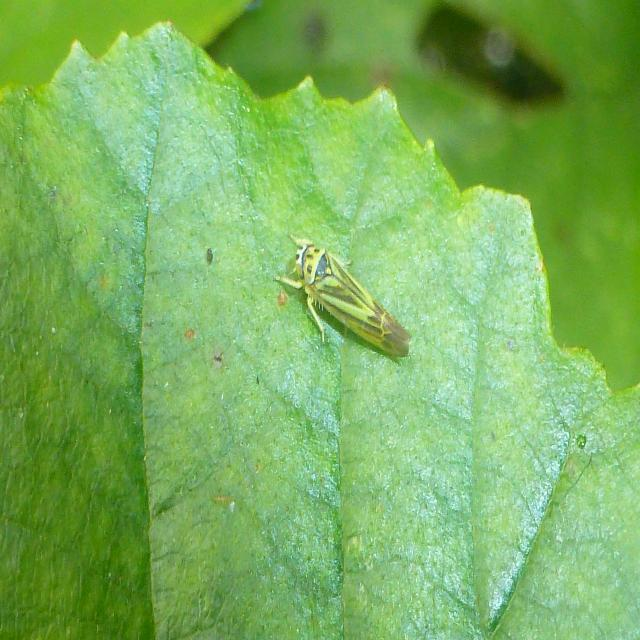Yechan: (267, 228, 430, 365)
